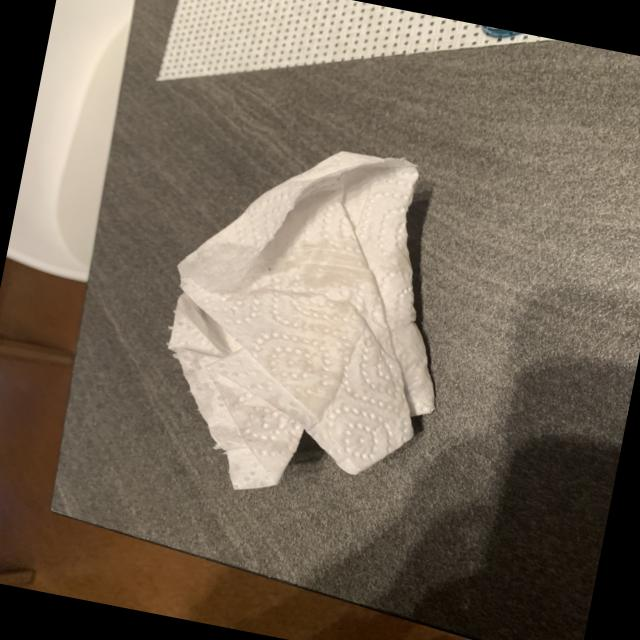organic waste: (136, 116, 486, 528)
